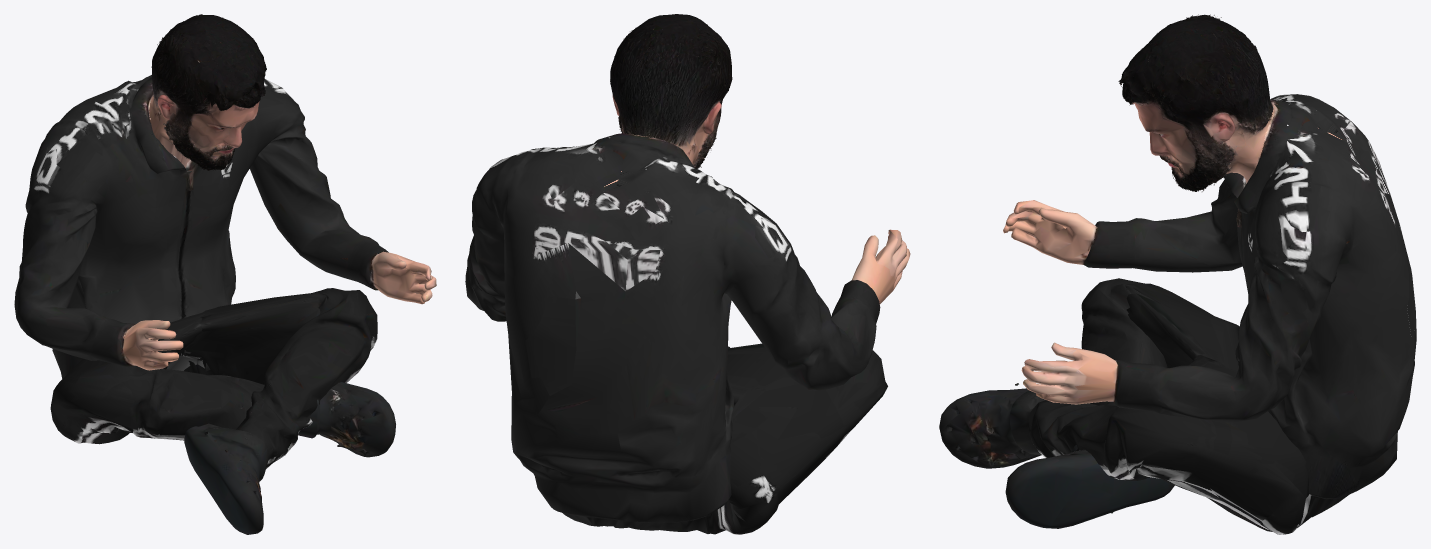
File: dee.glb
The picture shows the model from 3 angles, left to right: view 1: azimuth 30°, elevation 25°; view 2: azimuth 150°, elevation 25°; view 3: azimuth 270°, elevation 25°; orthographic projection. The views are drawn at different scales.
Parts seen in each view (by area): view 1: Mesh_0_1-Material002, Mesh_0_1-Material001; view 2: Mesh_0_1-Material002, Mesh_0_1-Material001, Mesh_0_1-Mat_1; view 3: Mesh_0_1-Material002, Mesh_0_1-Material001.
Boxes of the visible parts, x1=… form: Mesh_0_1-Material002: x1=14, y1=75, x2=436, y2=534; Mesh_0_1-Material001: x1=149, y1=14, x2=266, y2=170; Mesh_0_1-Material002: x1=465, y1=133, x2=910, y2=534; Mesh_0_1-Material001: x1=610, y1=14, x2=732, y2=168; Mesh_0_1-Mat_1: x1=525, y1=296, x2=576, y2=395; Mesh_0_1-Material002: x1=939, y1=94, x2=1416, y2=534; Mesh_0_1-Material001: x1=1118, y1=14, x2=1273, y2=191.
Bounding box in the file's own units: 0.7743 × 0.9347 × 0.8449.
Materials: 3 (2 with a texture image).
